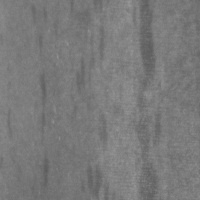inclusion: (130, 1, 165, 199), (87, 13, 113, 76), (33, 71, 53, 148), (92, 107, 114, 158), (70, 54, 95, 96), (82, 159, 106, 200), (38, 147, 57, 194), (3, 101, 20, 145), (31, 30, 50, 63)
